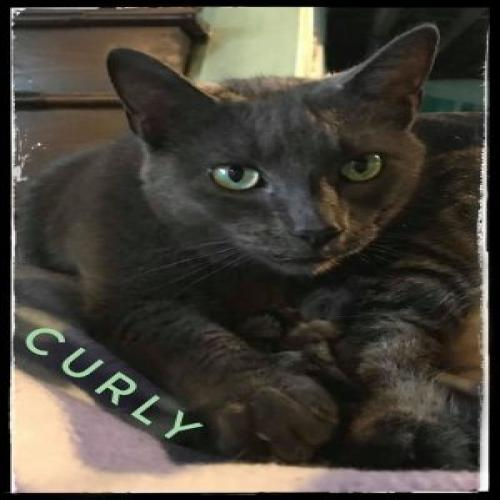rblue: (99, 19, 453, 284)
